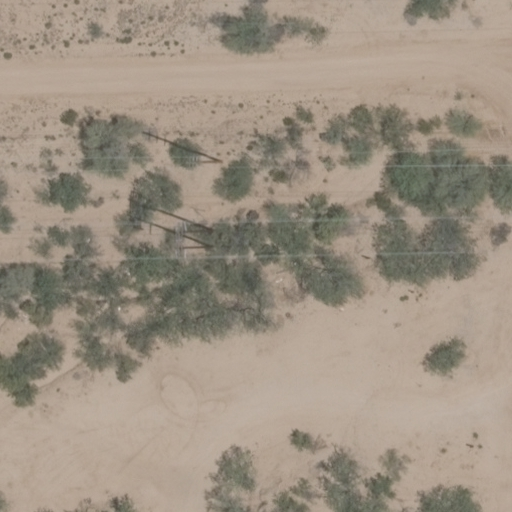DT: (157, 135, 220, 159)
TT: (129, 203, 218, 246)
